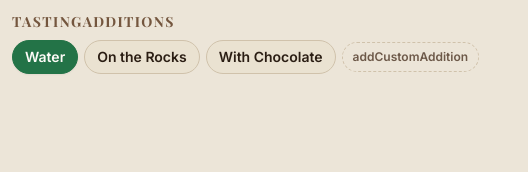
Test case: Metadata Subcomponents › TastingAdditionsSelector › cancels custom addition input on cancel button click
The image size is (528, 172).
Click the button "addCustomAddition" at (410, 57), box [342,42,479,72]
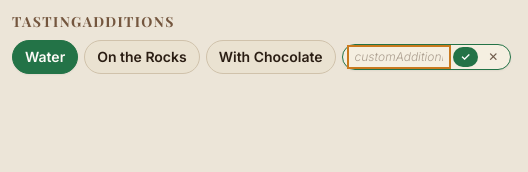
Click the button "✕" at (493, 57), box [484,49,502,65]
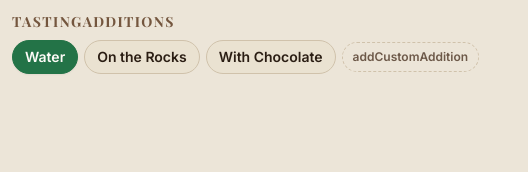
Now the field with placeholder "customAdditionPlaceholder" is gone
